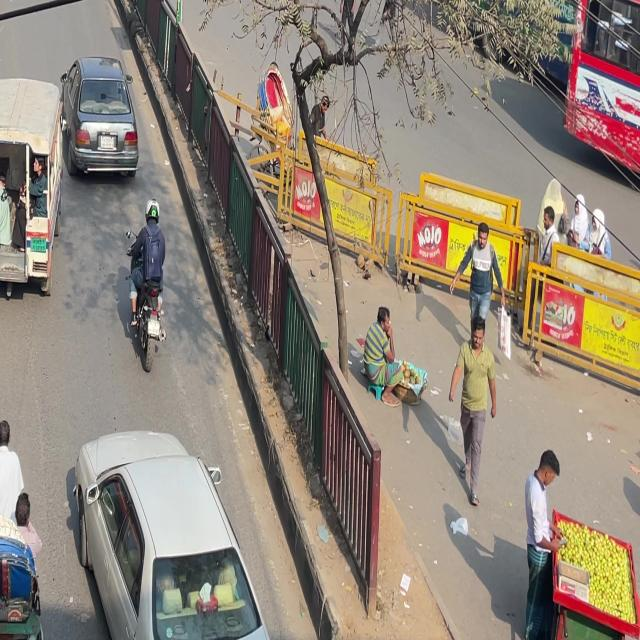car: (68, 432, 268, 640), (58, 58, 142, 182), (0, 540, 40, 640)
motorbike: (128, 284, 168, 374)
van: (0, 68, 68, 299)
